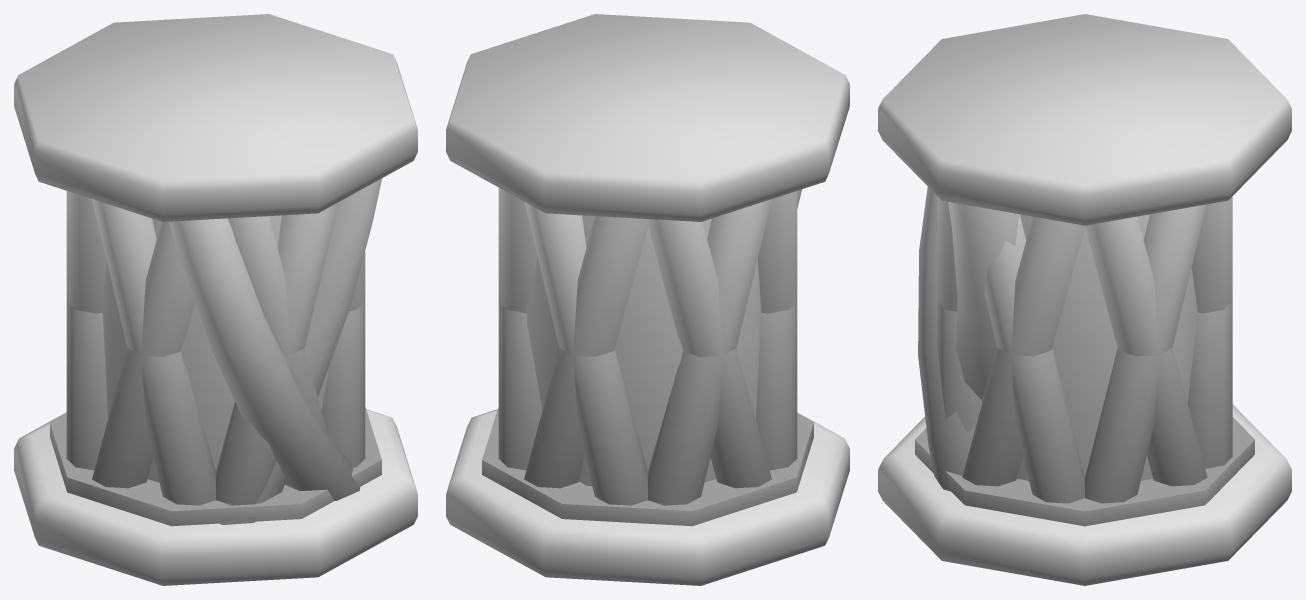
The model's file is stone_grip_055.glb.
The picture shows the model from 3 angles, left to right: view 1: azimuth 30°, elevation 25°; view 2: azimuth 150°, elevation 25°; view 3: azimuth 270°, elevation 25°; orthographic projection.
Parts seen in each view (by area): view 1: stone_grip.055; view 2: stone_grip.055; view 3: stone_grip.055.
Part boxes in pixels (x1,y1,x2,y2): stone_grip.055: (14, 14, 417, 585); stone_grip.055: (446, 14, 849, 585); stone_grip.055: (878, 14, 1291, 585).
Size of the model in its own units: 2.89 by 3.17 by 2.89.
1 material, 1 textured.
